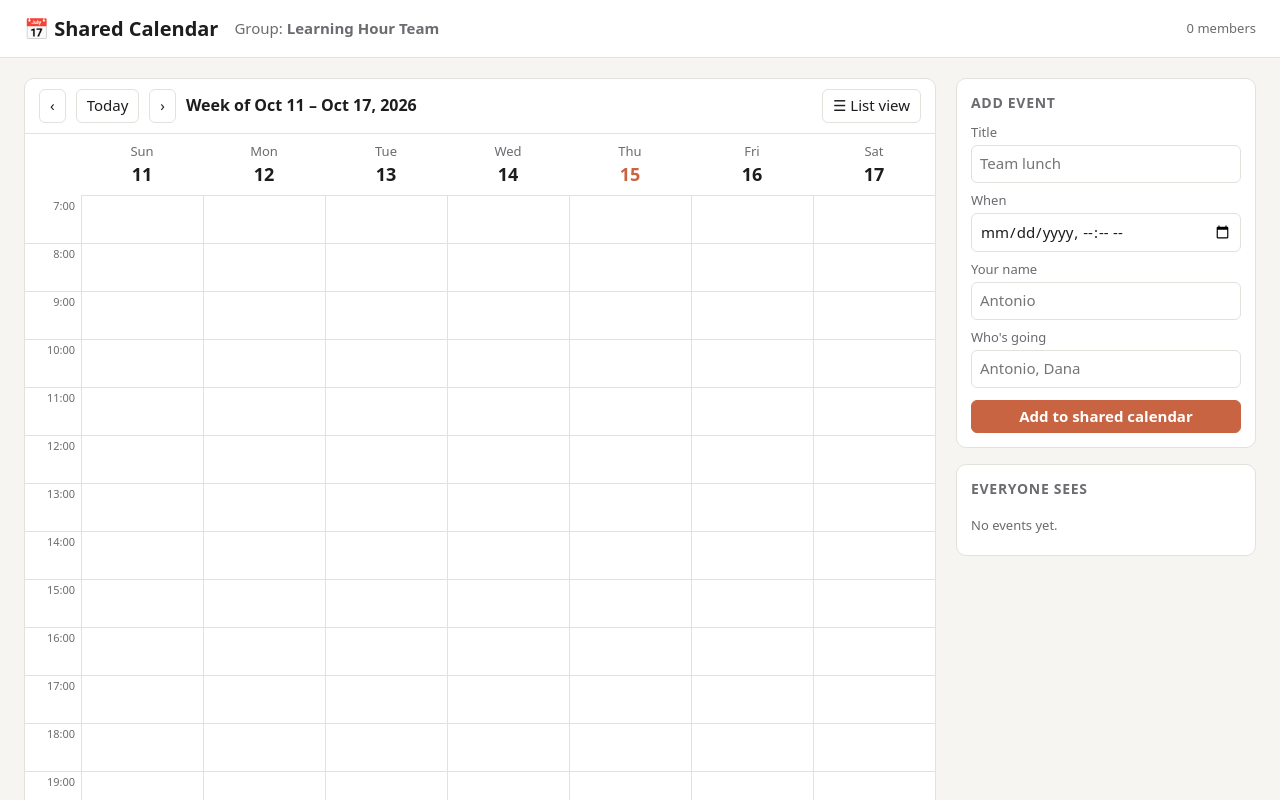
Test: Colors per person › shows three avatars and a "+N" avatar when more than three people are going
Type "Offsite" into the field with test id "title". click: (1106, 164)
box: 971,145 -> 1241,183
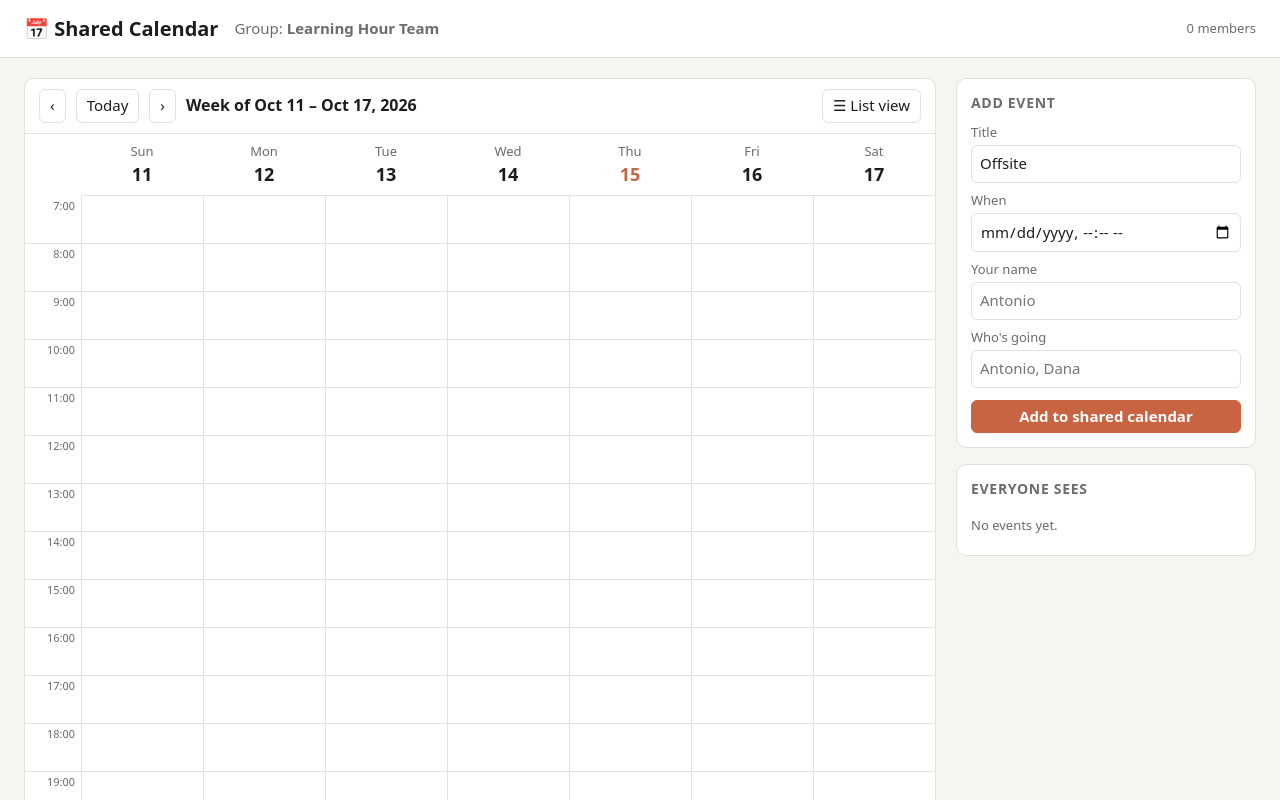
Type "2026-10-15T12:00" into the field with test id "start". click: (1106, 233)
box: 971,213 -> 1241,252
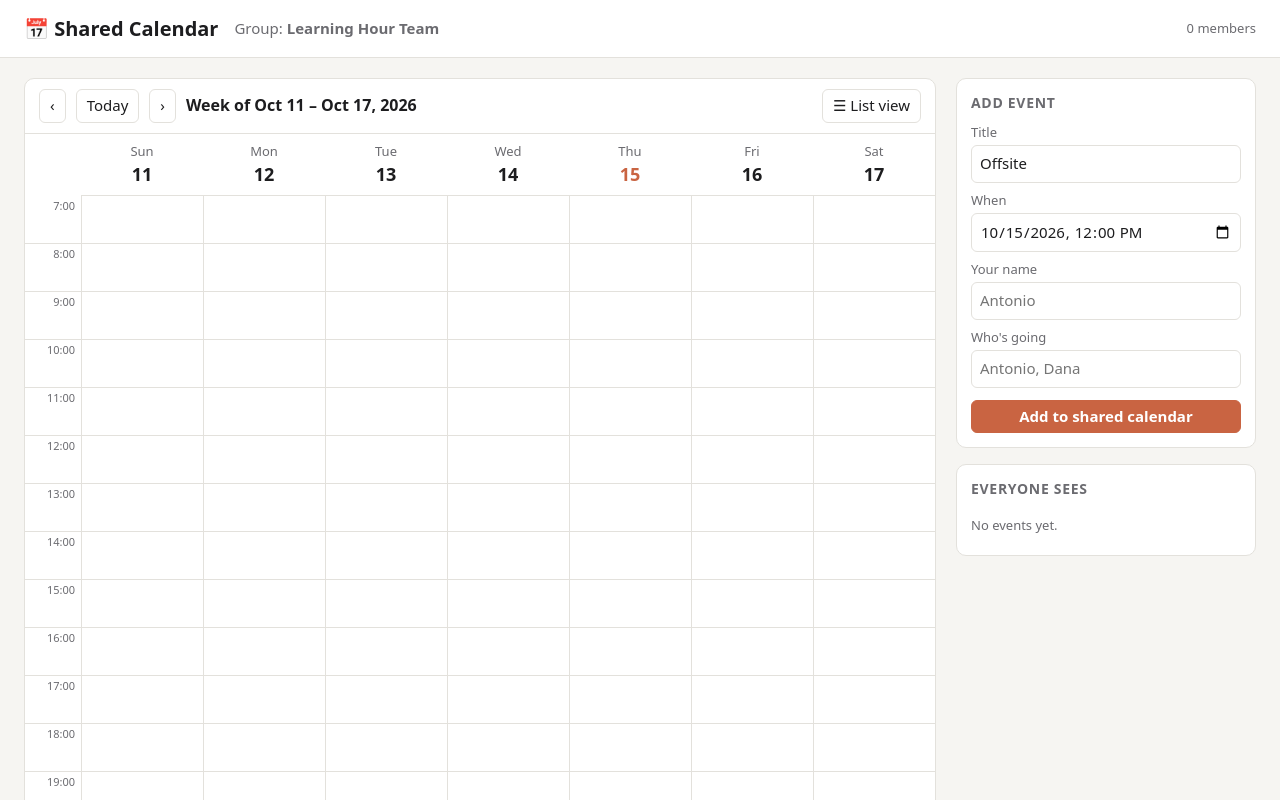
Type "Llewellyn" into the field with test id "who". click: (1106, 301)
box: 971,282 -> 1241,320
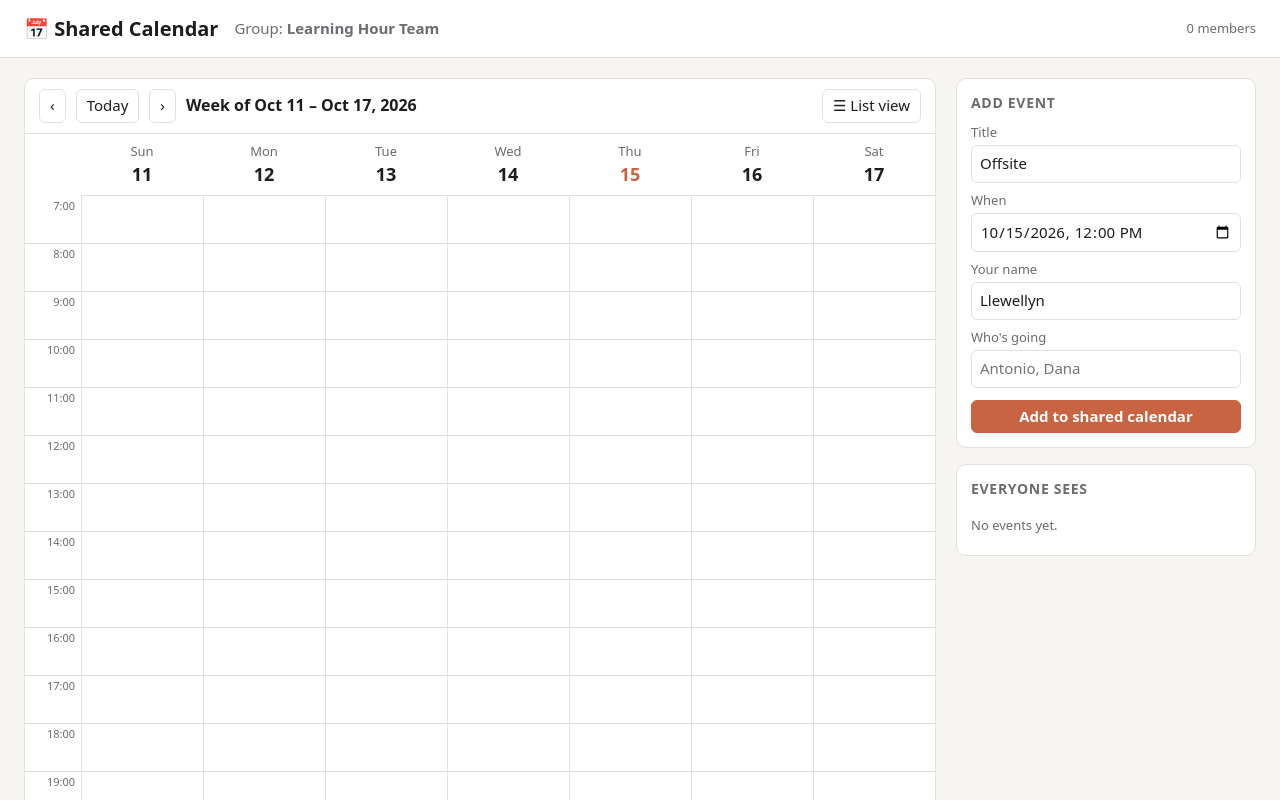
Type "Antonio, Dana, Nitsan, Llewellyn, Maya" into the field with test id "attendees". click: (1106, 369)
box: 971,350 -> 1241,388
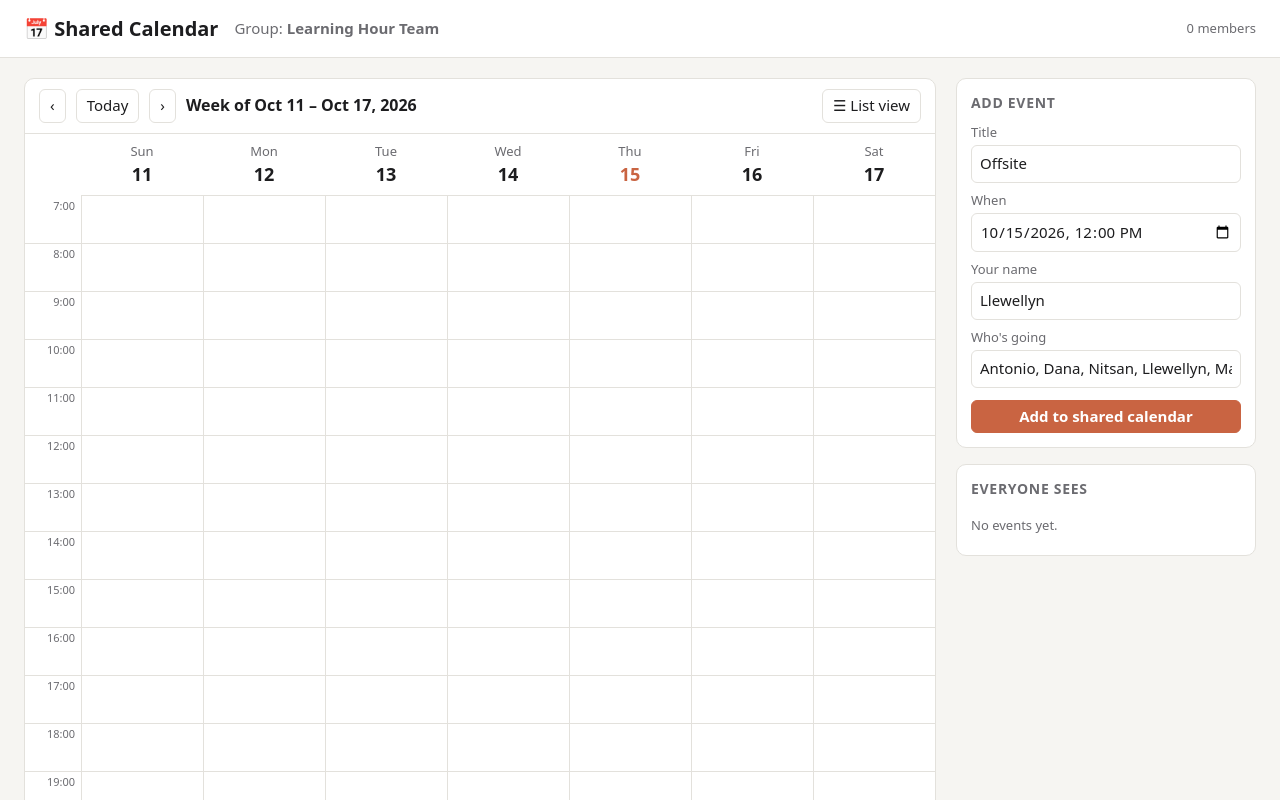
Submit the form, box 971,123 -> 1241,433
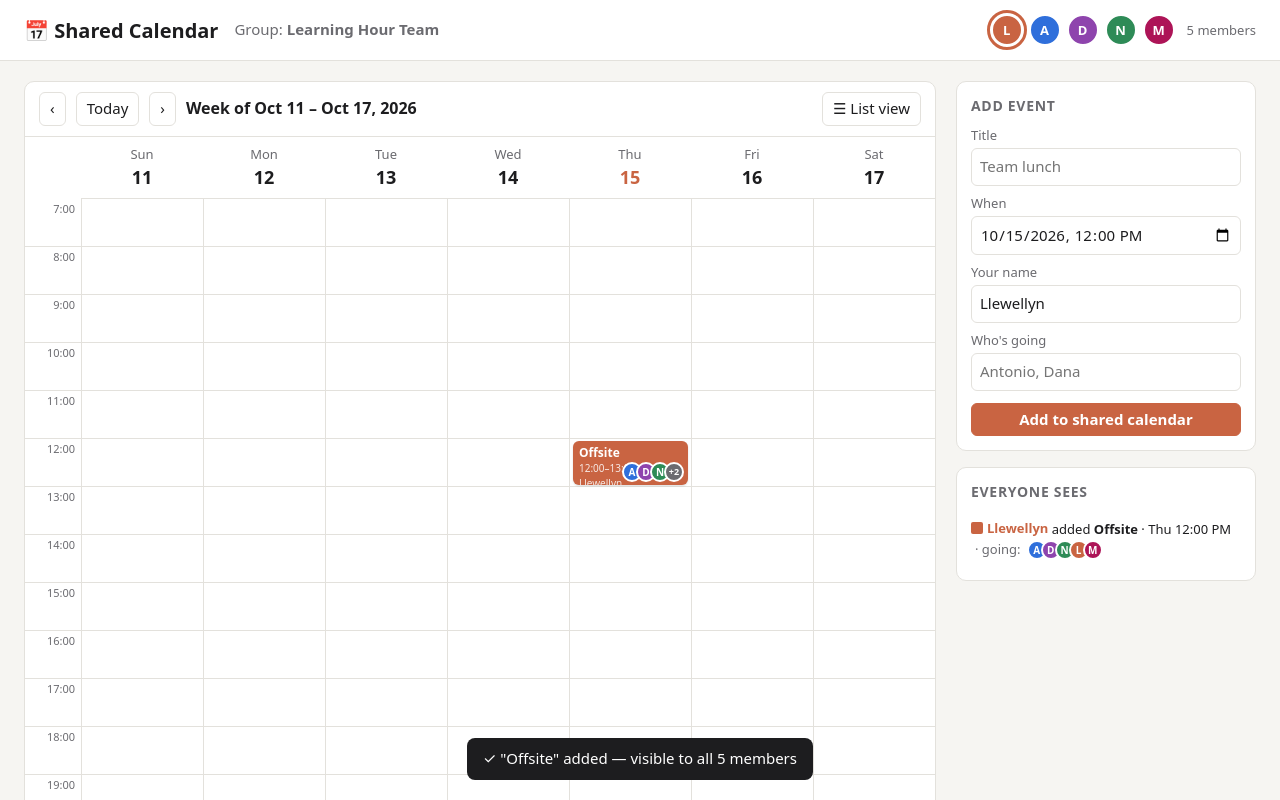
Check: the elements with test id "attendee-avatar" read "A", "D", "N", "+2", in this order, box 622,462 -> 642,482; 636,462 -> 656,482; 650,462 -> 670,482; 664,462 -> 684,482
